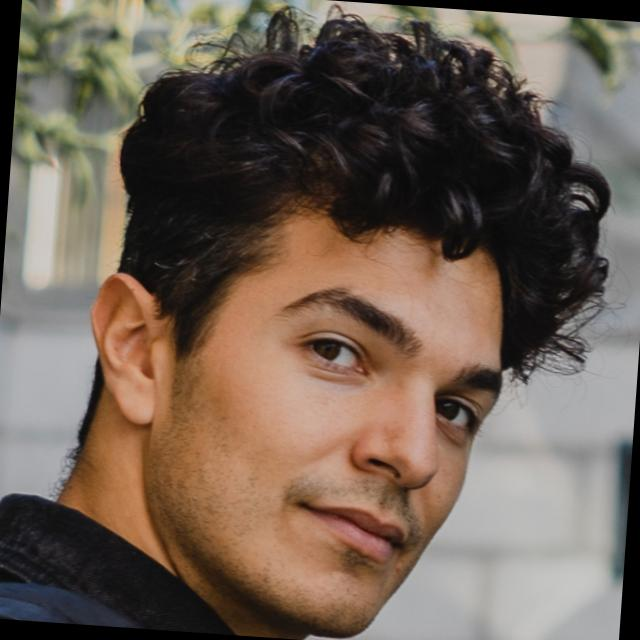face: (63, 9, 623, 640)
